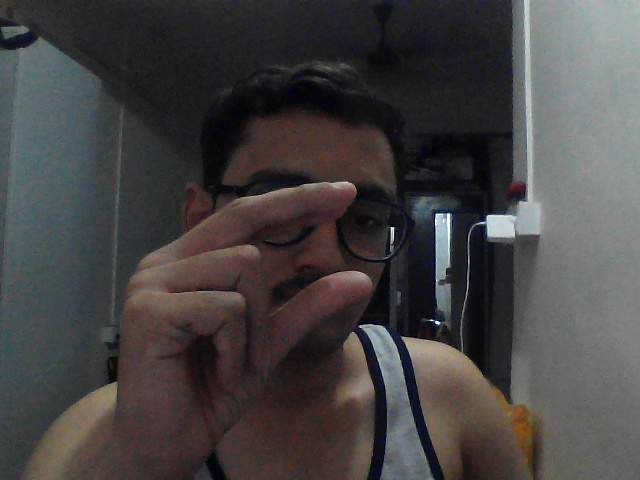No: (98, 164, 387, 454)
